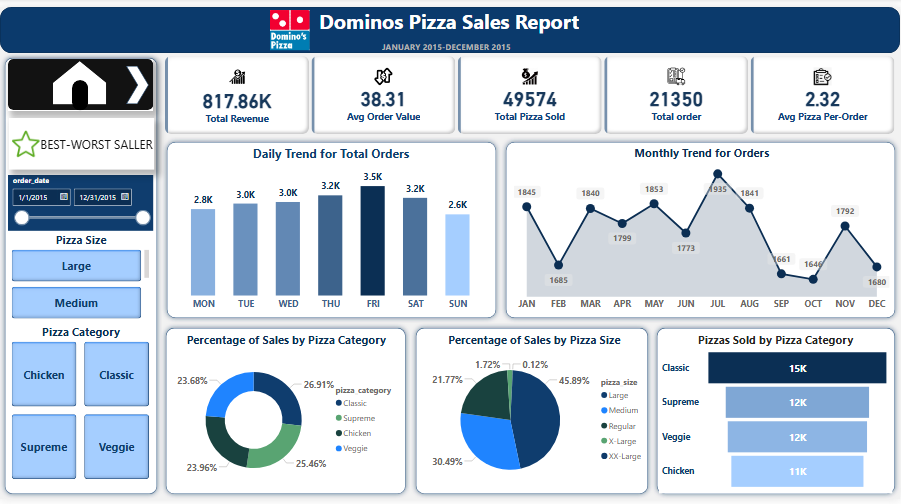

The page's visual inventory and layout, read from the dashboard file:
{"tool":"powerbi","page":{"name":"HOME","canvas":[1500,820],"ordinal":0},"visuals":[{"type":"cardVisual","fields":{"Data":["pizza_sales.Total Revenue","pizza_sales.Avg Order Value","pizza_sales.Total Pizza Sold","pizza_sales.Total order","pizza_sales.Avg Pizza Per-Order"]},"box":[270,76.7,1230,140],"z":0},{"type":"shape","box":[0,0,1500,76.7],"z":1000},{"type":"textbox","title":"Dominos Pizza Sales Report","box":[526.7,0,446.7,51.7],"z":2000},{"type":"textbox","box":[631.7,51.7,236.7,35],"z":3000},{"type":"image","box":[440,0,86.7,76.7],"z":4000},{"type":"shape","box":[270,216.7,565,310],"z":5000},{"type":"columnChart","title":"Daily Trend for Total Orders","fields":{"Category":["pizza_sales.Order Day"],"Y":["pizza_sales.Total order"]},"box":[285,230,533.3,285],"z":6000},{"type":"shape","box":[835,216.7,665,310],"z":7000},{"type":"areaChart","title":"Monthly Trend for Orders","fields":{"Y":["pizza_sales.Total order"],"Category":["pizza_sales.Order Month"]},"box":[851.4,230,635.7,285.7],"z":8000},{"type":"shape","box":[268.6,527.1,415.7,292.9],"z":9000},{"type":"shape","box":[684.3,527.1,402.9,292.9],"z":10000},{"type":"shape","box":[1087.1,527.1,412.9,292.9],"z":11000},{"type":"donutChart","title":"Percentage of Sales by Pizza Category","fields":{"Category":["pizza_sales.pizza_category"],"Y":["pizza_sales.Total Revenue"]},"box":[281.4,541.4,391.4,268.6],"z":12000},{"type":"pieChart","title":"Percentage of Sales by Pizza Size","fields":{"Y":["pizza_sales.Total Revenue"],"Category":["pizza_sales.pizza_size"]},"box":[695.7,541.4,391.4,268.6],"z":13000},{"type":"funnel","title":"Pizzas Sold by Pizza Category","fields":{"Category":["pizza_sales.pizza_category"],"Y":["pizza_sales.Total Pizza Sold"]},"box":[1098.6,541.4,388.6,268.6],"z":14000},{"type":"shape","box":[0,76.7,270,743.3],"z":15000},{"type":"advancedSlicerVisual","title":"Pizza Size","fields":{"Values":["pizza_sales.pizza_size"]},"box":[13.3,373.3,241.7,153.3],"z":16000},{"type":"slicer","fields":{"Values":["pizza_sales.order_date"]},"box":[13.3,280,241.7,93.3],"z":17000},{"type":"advancedSlicerVisual","title":"Pizza Category","fields":{"Values":["pizza_sales.pizza_category"]},"box":[13.3,526.7,241.7,266.7],"z":18000},{"type":"pageNavigator","box":[12.9,87.2,242.1,85.6],"z":18001},{"type":"pageNavigator","box":[14.5,185.6,242.1,85.6],"z":18002},{"type":"shape","box":[88.8,89.4,88.8,72.5],"z":18003},{"type":"shape","box":[119.4,121.9,26.9,50.6],"z":18004},{"type":"shape","box":[210,98.1,38.1,63.8],"z":18005},{"type":"image","box":[14.4,200,56.2,56.2],"z":18006}]}

Visuals, with their boxes in screenshot pixels (x1, y1, x2, y2), scaled from the page's 1500x820 canvas onto the 901x504 screenshot:
cardVisual - pizza_sales.Total Revenue x pizza_sales.Avg Order Value: region(162, 47, 900, 133)
shape: region(0, 0, 900, 47)
"Dominos Pizza Sales Report" textbox: region(316, 0, 585, 32)
textbox: region(379, 32, 522, 53)
image: region(264, 0, 316, 47)
shape: region(162, 133, 502, 324)
"Daily Trend for Total Orders" columnChart: region(171, 141, 492, 317)
shape: region(502, 133, 900, 324)
"Monthly Trend for Orders" areaChart: region(511, 141, 893, 317)
shape: region(161, 324, 411, 503)
shape: region(411, 324, 653, 503)
shape: region(653, 324, 900, 503)
"Percentage of Sales by Pizza Category" donutChart: region(169, 333, 404, 498)
"Percentage of Sales by Pizza Size" pieChart: region(418, 333, 653, 498)
"Pizzas Sold by Pizza Category" funnel: region(660, 333, 893, 498)
shape: region(0, 47, 162, 503)
"Pizza Size" advancedSlicerVisual: region(8, 229, 153, 324)
slicer - pizza_sales.order_date: region(8, 172, 153, 229)
"Pizza Category" advancedSlicerVisual: region(8, 324, 153, 488)
pageNavigator: region(8, 54, 153, 106)
pageNavigator: region(9, 114, 154, 167)
shape: region(53, 55, 107, 100)
shape: region(72, 75, 88, 106)
shape: region(126, 60, 149, 100)
image: region(9, 123, 42, 157)
